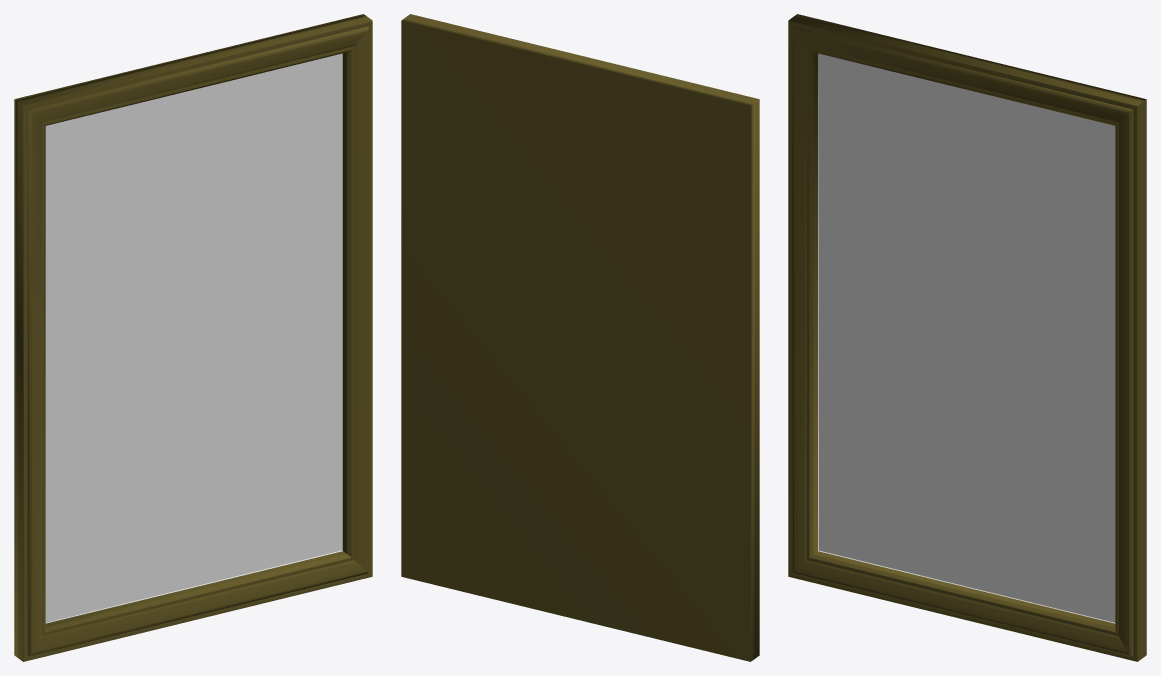
The model's file is Frames.fbx.
The picture shows the model from 3 angles, left to right: view 1: azimuth 30°, elevation 25°; view 2: azimuth 150°, elevation 25°; view 3: azimuth 330°, elevation 25°; orthographic projection.
Parts seen in each view (by area): view 1: Frame; view 2: Frame; view 3: Frame.
Part boxes in pixels (x1,y1,x2,y2): Frame: (14,14,372,661); Frame: (401,14,759,661); Frame: (788,14,1146,661).
Size of the model in its own units: 72.89 by 111 by 3.83.
